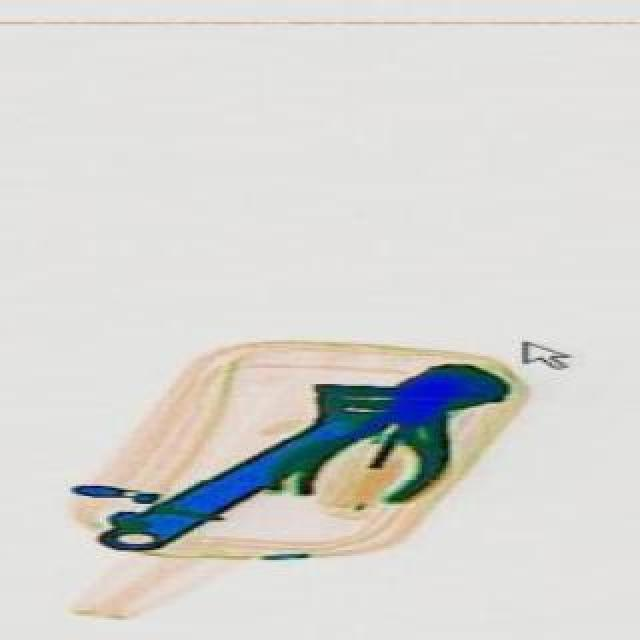scissors: (70, 310, 504, 582)
